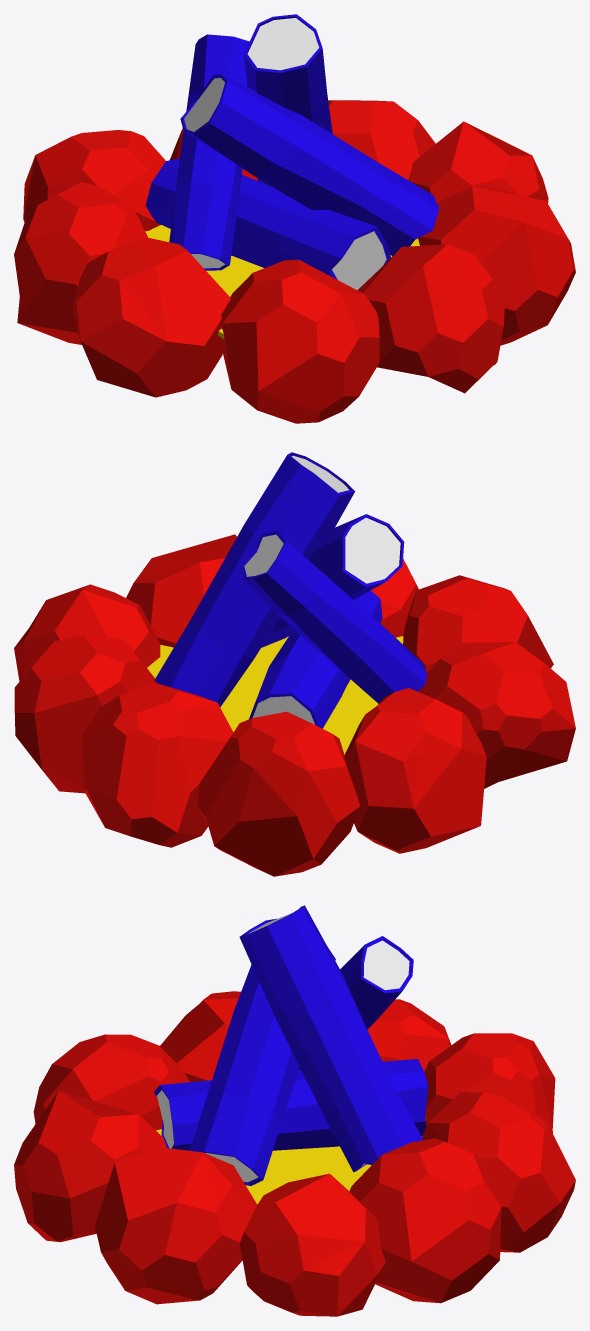
Rendered from Campfire.fbx.
The picture shows the model from 3 angles, top to bottom: view 1: azimuth 30°, elevation 25°; view 2: azimuth 150°, elevation 25°; view 3: azimuth 270°, elevation 25°; orthographic projection.
Visible parts, largest first — view 1: Campfire_base.001, Log2, Log1, Log3, Log4, Log4.001, Log1.001, Campfire_base.002, Log2.001; view 2: Campfire_base.001, Log4, Log3, Log1, Campfire_base.002, Log2, Log2.001, Log3.001, Log1.001, Log4.001; view 3: Campfire_base.001, Log4, Log2, Log1, Campfire_base.002, Log3, Log3.001, Log1.001.
Part boxes in pixels (x1,y1,x2,y2): Campfire_base.001: (14, 100, 575, 423); Log2: (180, 74, 438, 255); Log1: (145, 158, 390, 290); Log3: (169, 34, 249, 270); Log4: (243, 14, 332, 186); Log4.001: (247, 18, 319, 70); Log1.001: (332, 231, 386, 289); Campfire_base.002: (145, 225, 419, 339); Log2.001: (184, 78, 224, 131); Campfire_base.001: (14, 534, 575, 876); Log4: (154, 452, 354, 707); Log3: (240, 530, 426, 703); Log1: (249, 590, 382, 728); Campfire_base.002: (147, 636, 403, 754); Log2: (261, 514, 404, 647); Log2.001: (345, 517, 400, 583); Log3.001: (244, 534, 283, 576); Log1.001: (252, 696, 314, 724); Log4.001: (291, 455, 348, 492); Campfire_base.001: (14, 991, 575, 1316); Log4: (239, 905, 423, 1172); Log2: (190, 948, 335, 1185); Log1: (154, 1059, 428, 1150); Campfire_base.002: (156, 1129, 422, 1204); Log3: (299, 936, 413, 1069); Log3.001: (363, 940, 409, 990); Log1.001: (157, 1090, 425, 1148).
Bounding box in the file's own units: 600 × 363 × 575.
